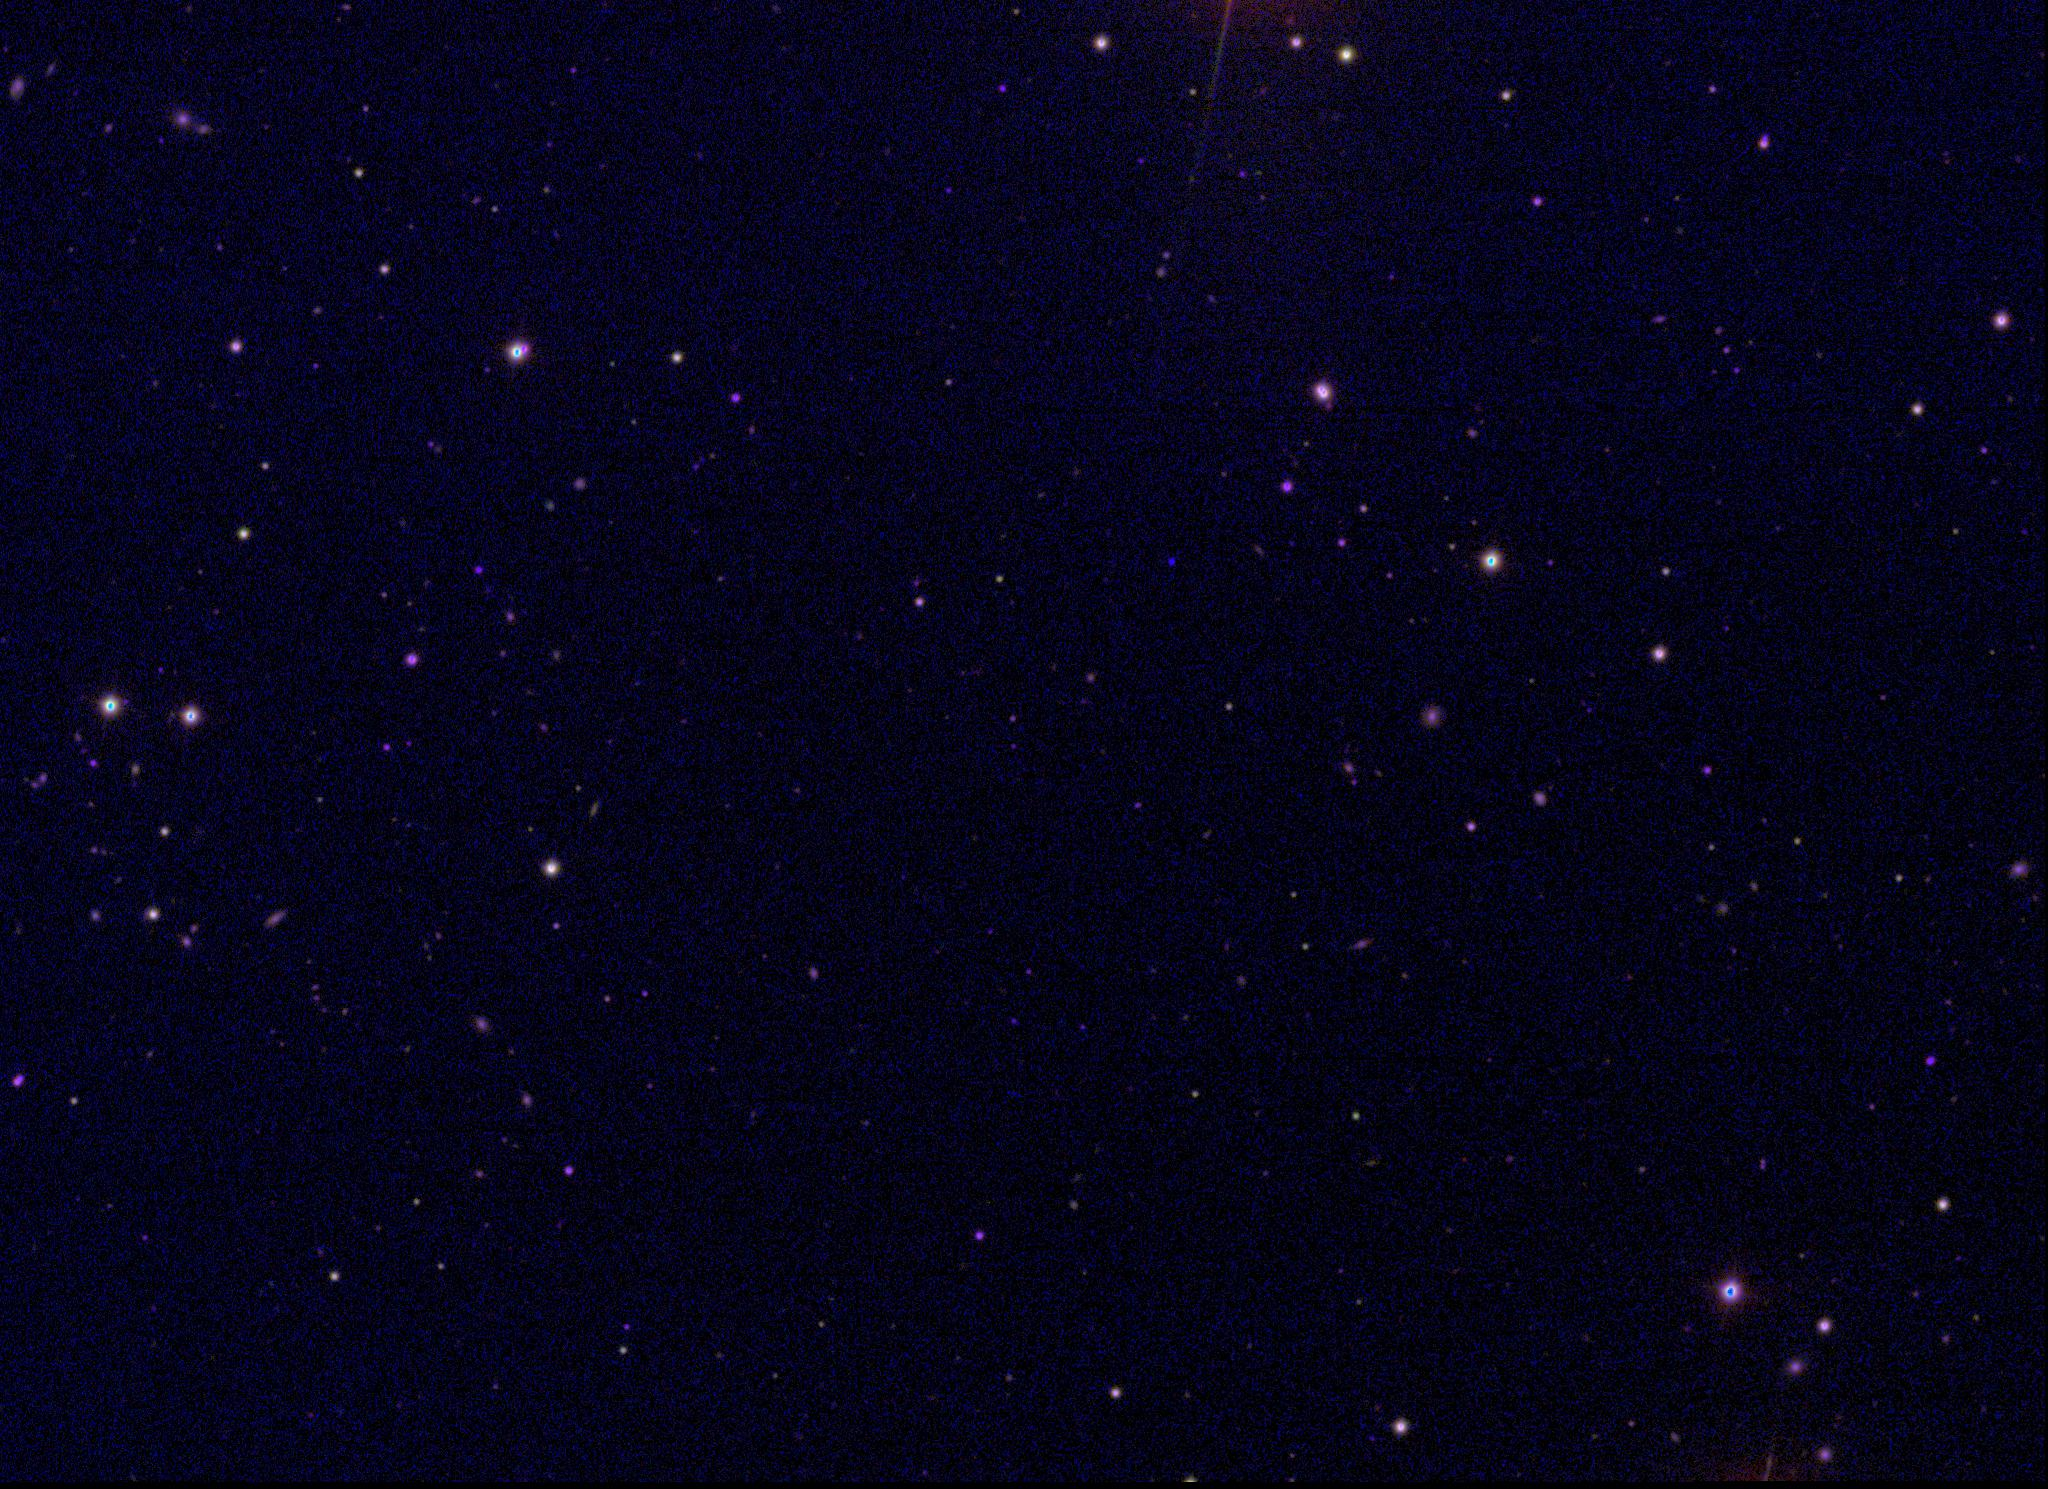L: (1166, 554, 1178, 568)
